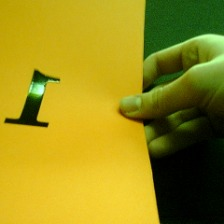orange1: (2, 63, 63, 129)
